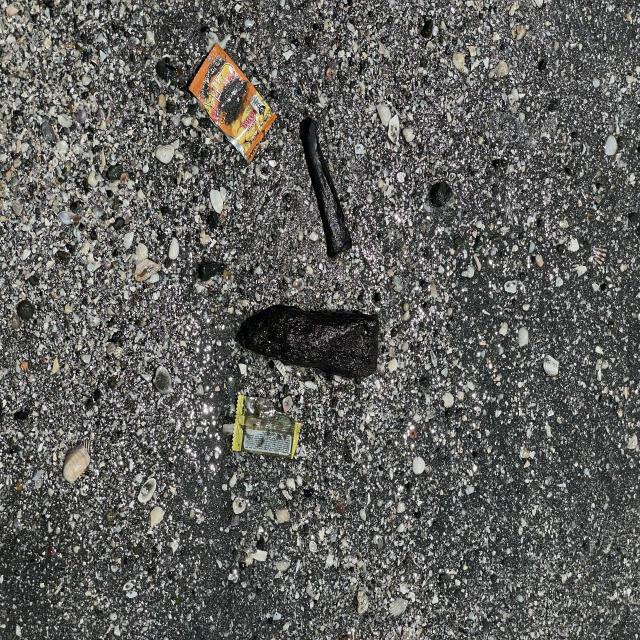plastic_waste: (193, 44, 283, 164), (231, 393, 303, 459)
